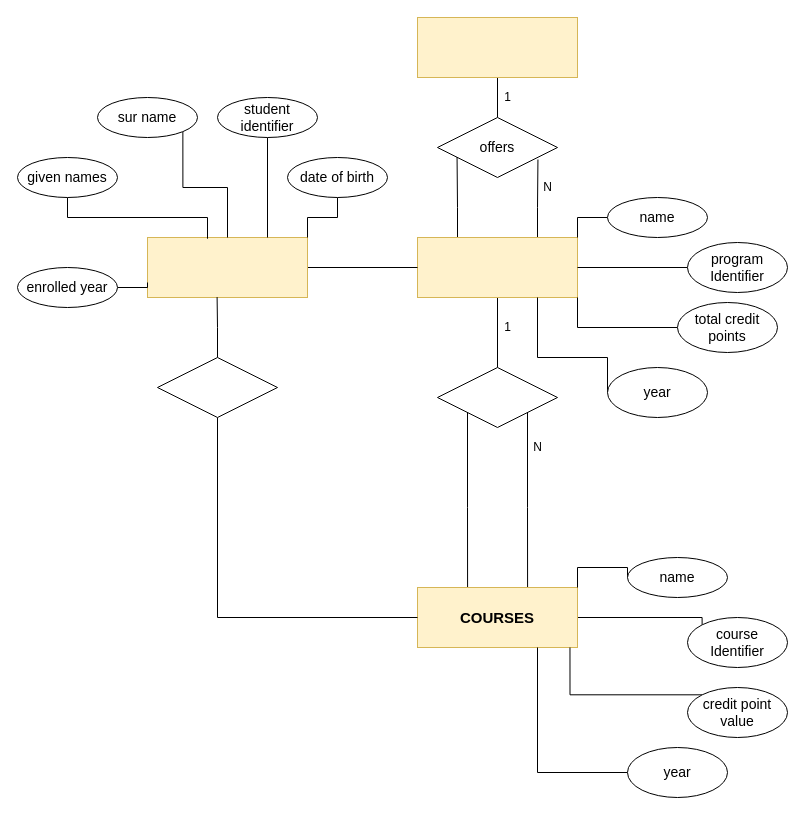
The diagram is 805 pixels wide and 815 high, and some of its shapes have lost their labels. Here are the shapes that lost their labels. From the top down, the centre of each, then its label:
At (x=497, y=47): "UNIVERSITY".
At (x=227, y=267): "STUDENTS".
At (x=497, y=267): "PROGRAMS".
At (x=217, y=387): "takes".
At (x=497, y=397): "made".
